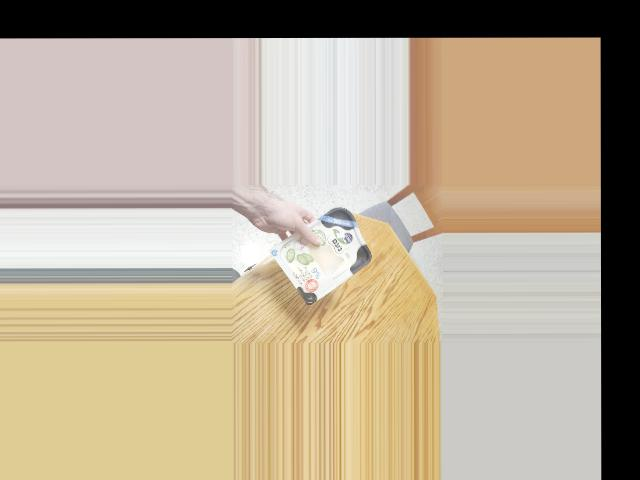cheese: (286, 201, 367, 298)
